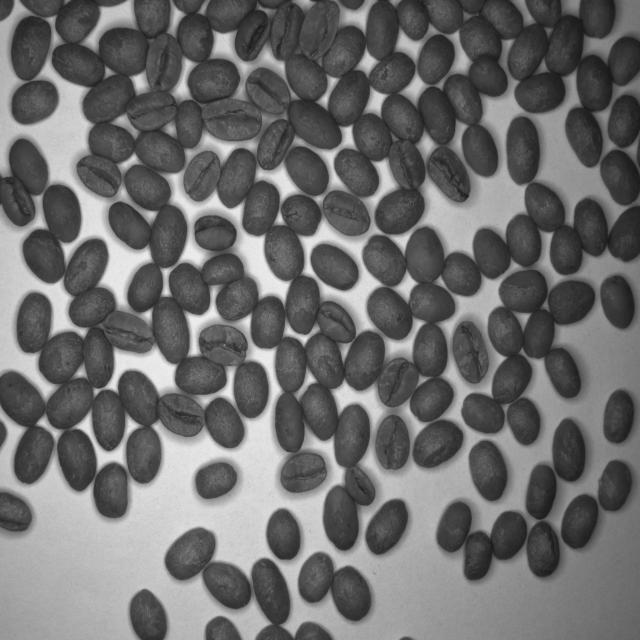good: (284, 92, 348, 159), (102, 302, 162, 365), (54, 417, 100, 498), (328, 558, 375, 635), (186, 47, 246, 107), (210, 135, 258, 209), (362, 281, 416, 345), (120, 82, 186, 134), (10, 10, 54, 87), (252, 550, 296, 627), (79, 70, 140, 125), (21, 223, 70, 291), (332, 140, 381, 208), (40, 324, 90, 390), (202, 97, 263, 151), (0, 366, 48, 434), (426, 143, 474, 210), (41, 180, 87, 249), (63, 234, 111, 300), (410, 368, 458, 434), (323, 183, 373, 246), (96, 24, 152, 80), (305, 328, 351, 396), (448, 317, 492, 388), (50, 43, 112, 93), (330, 62, 373, 134), (157, 388, 206, 451), (162, 522, 216, 579), (15, 422, 56, 497), (321, 482, 362, 557), (126, 582, 179, 640), (379, 346, 424, 414), (364, 493, 411, 558), (572, 190, 612, 266), (412, 417, 467, 472), (504, 114, 546, 185), (48, 374, 96, 436), (8, 135, 53, 201), (172, 349, 228, 402), (90, 388, 130, 462), (523, 512, 563, 586), (123, 420, 165, 490), (260, 223, 309, 283), (512, 64, 572, 113), (467, 440, 516, 500), (107, 195, 155, 256), (270, 449, 331, 497), (344, 328, 387, 396), (441, 73, 492, 130), (564, 106, 608, 172), (495, 265, 553, 315), (262, 505, 308, 568), (194, 321, 253, 370), (552, 410, 590, 486), (406, 222, 447, 292), (307, 240, 360, 294), (374, 184, 426, 239), (406, 280, 461, 332), (457, 120, 503, 182), (272, 387, 310, 462), (152, 297, 192, 368), (240, 174, 282, 241), (149, 201, 188, 273), (602, 262, 638, 340), (118, 368, 164, 429), (319, 20, 365, 81), (122, 160, 172, 216), (283, 270, 323, 340), (372, 409, 412, 479), (15, 288, 56, 356), (229, 358, 270, 426), (574, 54, 616, 120), (523, 177, 569, 237), (336, 403, 376, 472), (204, 560, 255, 614), (407, 318, 452, 379), (547, 277, 603, 326), (544, 14, 586, 79), (165, 256, 209, 318), (90, 458, 130, 526), (128, 126, 187, 172), (74, 153, 126, 205), (9, 75, 60, 128), (177, 148, 222, 208), (596, 454, 634, 525), (67, 284, 122, 333), (147, 31, 187, 98), (379, 88, 425, 146), (562, 484, 598, 558), (250, 286, 288, 356), (272, 328, 310, 398), (418, 28, 457, 96), (491, 349, 537, 406), (282, 54, 334, 104), (499, 392, 547, 446), (458, 386, 506, 440), (203, 399, 250, 454), (81, 324, 119, 392), (502, 209, 545, 269), (506, 22, 545, 88), (542, 342, 587, 399), (284, 144, 328, 202), (361, 234, 409, 287), (302, 380, 342, 443), (441, 250, 486, 306), (601, 384, 639, 450), (54, 0, 102, 52), (369, 47, 417, 99), (354, 110, 400, 164), (459, 522, 495, 591), (258, 114, 298, 176), (316, 301, 361, 356), (84, 122, 140, 166), (192, 457, 238, 510), (472, 224, 514, 282), (460, 16, 505, 70), (467, 54, 510, 110), (302, 0, 341, 61), (246, 64, 290, 118), (297, 544, 333, 610), (268, 0, 305, 64), (0, 173, 39, 233), (188, 209, 241, 253), (430, 497, 474, 550), (418, 83, 454, 147), (362, 0, 402, 57), (488, 506, 526, 566), (603, 145, 640, 206), (212, 272, 260, 319), (128, 258, 172, 309), (549, 219, 585, 280), (605, 88, 640, 150), (525, 462, 560, 524), (484, 306, 525, 358), (384, 133, 422, 188), (279, 194, 322, 241), (343, 458, 381, 511), (608, 26, 640, 88), (236, 11, 272, 66), (201, 248, 247, 291), (176, 12, 214, 63), (522, 308, 559, 360), (172, 96, 202, 154)
